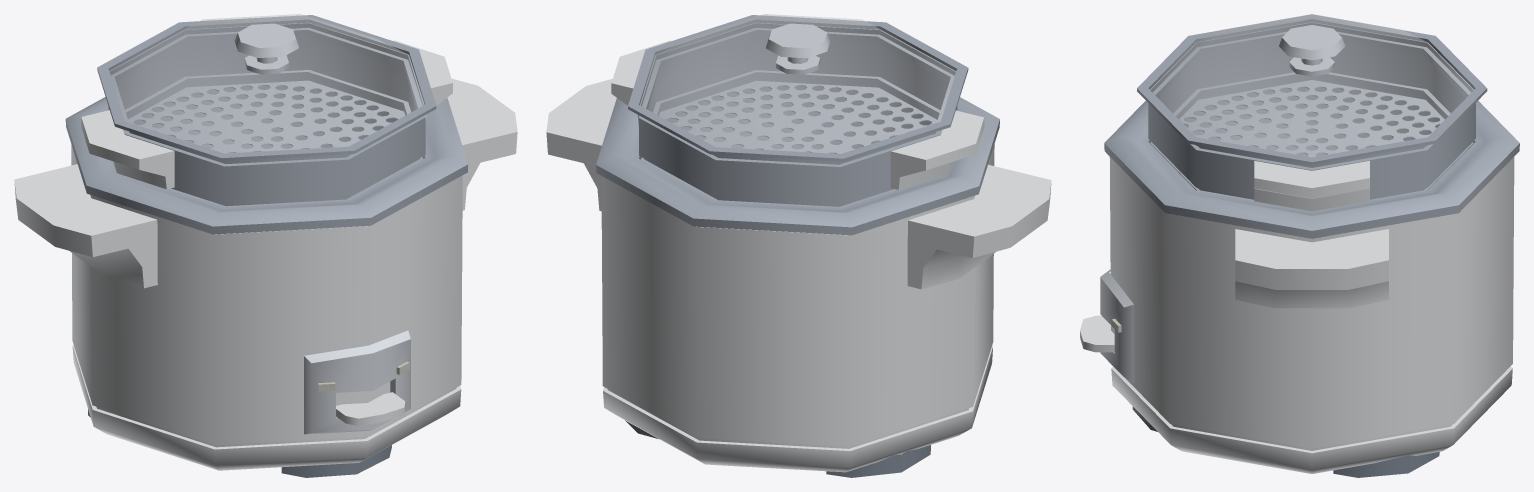
The model's file is Rice Cooker.glb.
3 renders of one model, left to right at view 1: azimuth 30°, elevation 25°; view 2: azimuth 150°, elevation 25°; view 3: azimuth 270°, elevation 25°, orthographic.
Parts seen in each view (by area): view 1: appliance_rice_cooker_Cylinder.136, appliance_rice_cooker_strainer_Cylinder.143, appliance_rice_cooker_lid_Cylinder.144, appliance_rice_cooker_pot_Cylinder.146, appliance_rice_cooker_switch_Cylinder.147; view 2: appliance_rice_cooker_Cylinder.136, appliance_rice_cooker_strainer_Cylinder.143, appliance_rice_cooker_lid_Cylinder.144, appliance_rice_cooker_pot_Cylinder.146; view 3: appliance_rice_cooker_Cylinder.136, appliance_rice_cooker_strainer_Cylinder.143, appliance_rice_cooker_lid_Cylinder.144, appliance_rice_cooker_pot_Cylinder.146, appliance_rice_cooker_switch_Cylinder.147.
Part boxes in pixels (bbox=[...]): appliance_rice_cooker_Cylinder.136: bbox=[14, 78, 517, 477]; appliance_rice_cooker_strainer_Cylinder.143: bbox=[81, 22, 452, 206]; appliance_rice_cooker_lid_Cylinder.144: bbox=[97, 14, 436, 161]; appliance_rice_cooker_pot_Cylinder.146: bbox=[65, 85, 468, 234]; appliance_rice_cooker_switch_Cylinder.147: bbox=[336, 392, 405, 426]; appliance_rice_cooker_Cylinder.136: bbox=[546, 79, 1051, 477]; appliance_rice_cooker_strainer_Cylinder.143: bbox=[611, 22, 984, 207]; appliance_rice_cooker_lid_Cylinder.144: bbox=[628, 14, 968, 161]; appliance_rice_cooker_pot_Cylinder.146: bbox=[596, 85, 999, 235]; appliance_rice_cooker_Cylinder.136: bbox=[1100, 157, 1514, 477]; appliance_rice_cooker_strainer_Cylinder.143: bbox=[1148, 22, 1475, 211]; appliance_rice_cooker_lid_Cylinder.144: bbox=[1137, 14, 1487, 165]; appliance_rice_cooker_pot_Cylinder.146: bbox=[1104, 87, 1519, 238]; appliance_rice_cooker_switch_Cylinder.147: bbox=[1080, 315, 1114, 352].
Size of the model in its own units: 10.19 by 7.86 by 8.43.
3 materials, 2 textured.
